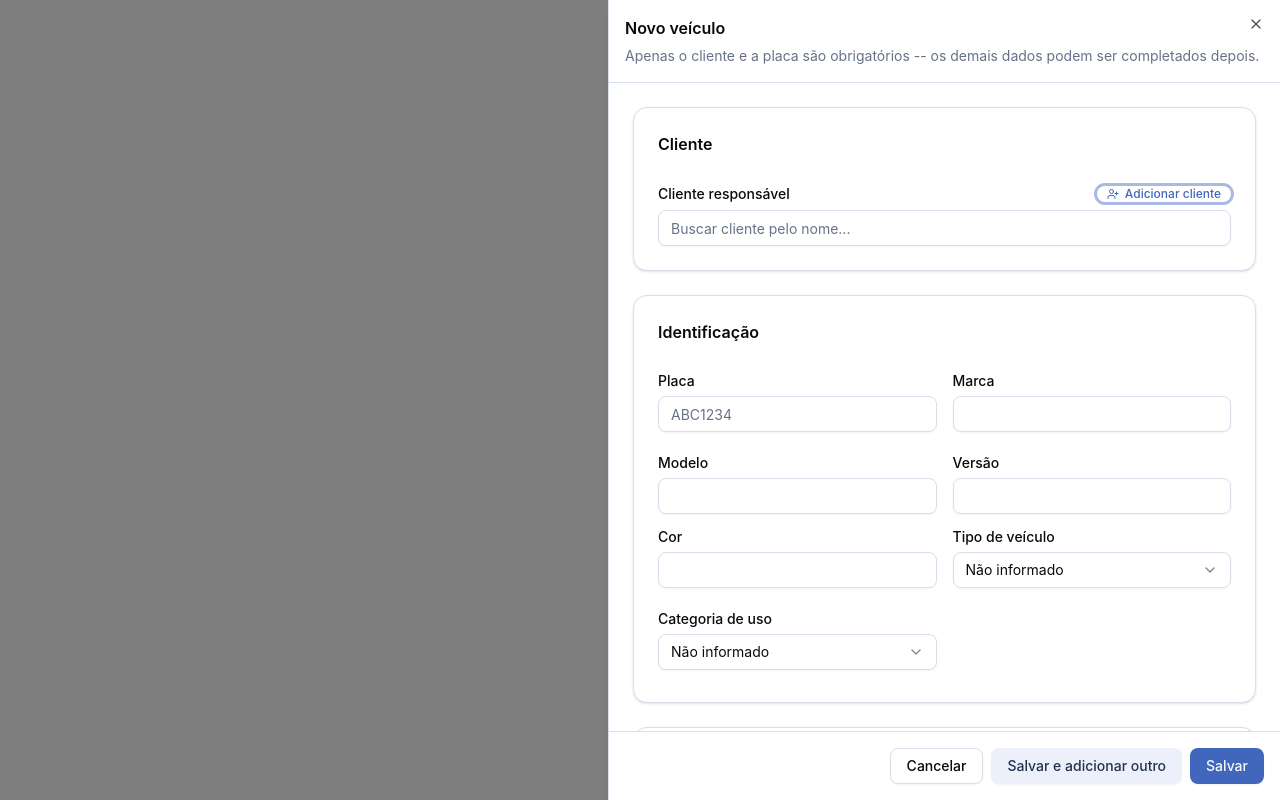
Test: VehicleFormSheet › requires a customer and a valid plate before submitting
Click the button "Salvar": click(1227, 766) [1190, 748, 1264, 784]
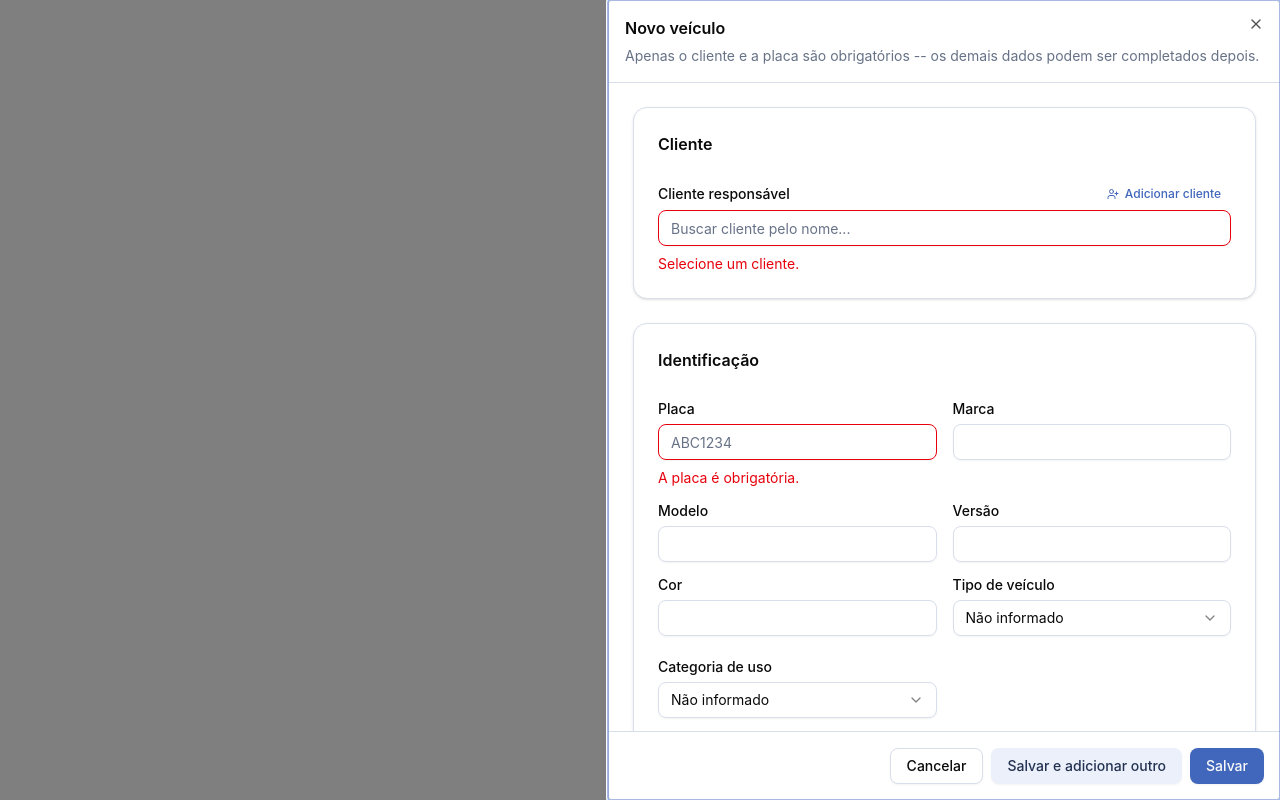
expect the text "Selecione um cliente." is shown: met, box [658, 255, 799, 272]
expect the text "A placa é obrigatória." is shown: met, box [658, 469, 799, 486]
